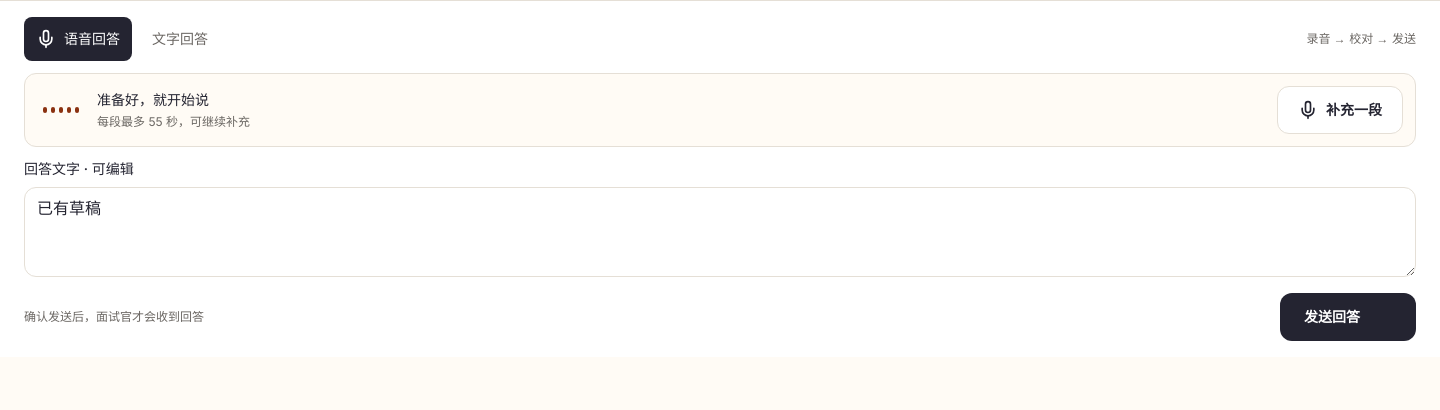
Scenario: inline voice answer › switching to text cancels late results without replacing the draft
Click the button "补充一段" at (1340, 110), box [1277,86,1403,134]
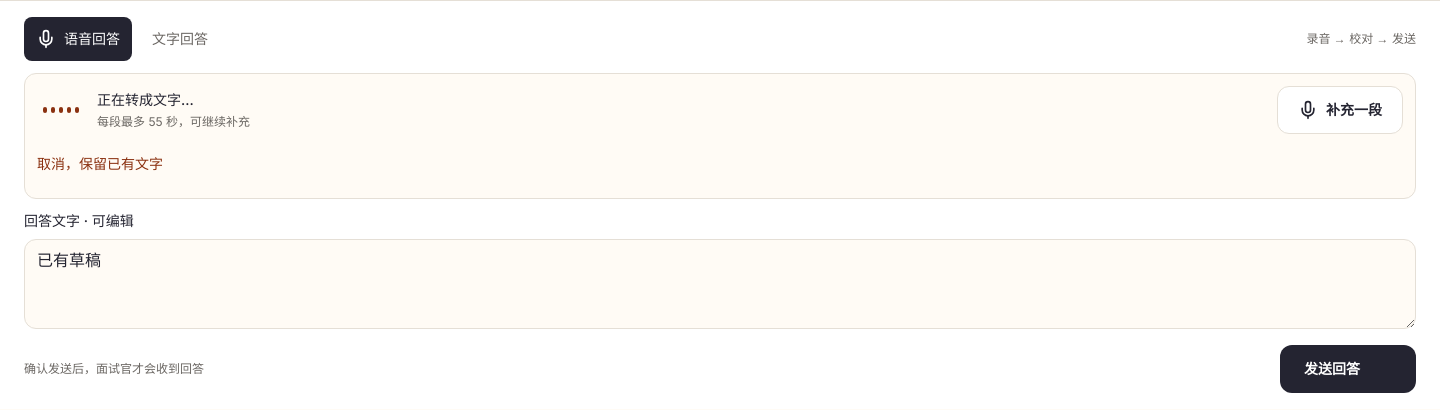
Click the button "文字回答" at (180, 39), box [140,17,220,61]
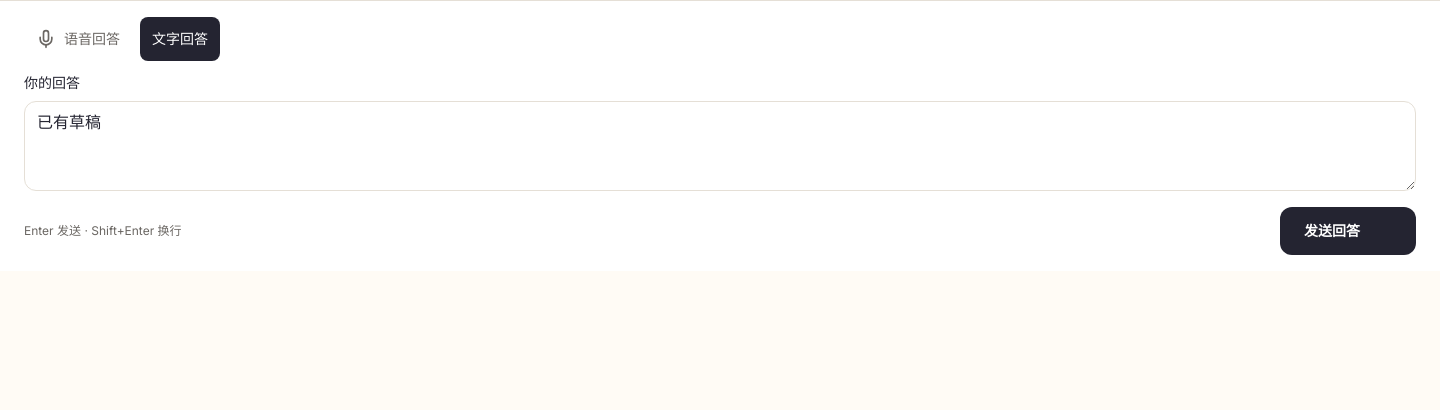
Expected: the text box labelled "你的回答" holds "已有草稿", [24,101,1416,191]
Expected: the button "发送回答" is enabled, [1280,207,1416,255]
